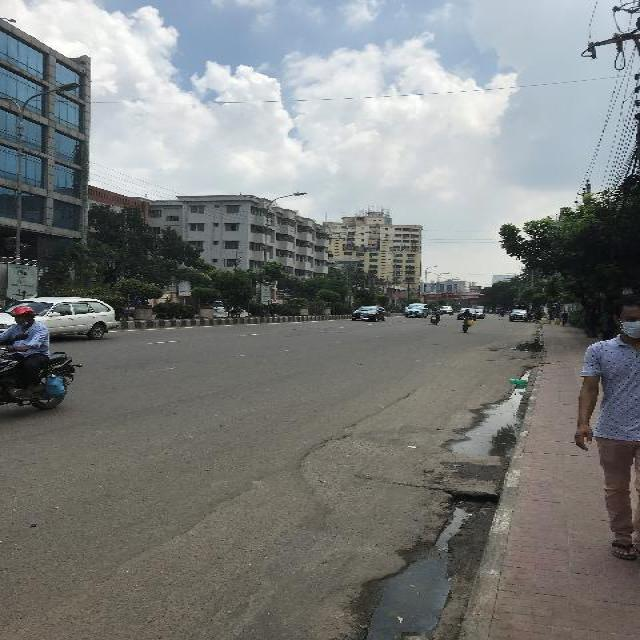bicycle: (459, 309, 474, 333)
car: (1, 294, 119, 340), (351, 305, 385, 321), (475, 308, 485, 318)
minivan: (404, 302, 428, 318), (438, 306, 453, 314)
motorbike: (1, 304, 84, 416), (428, 307, 441, 325)
policecar: (508, 304, 528, 322)
suv: (456, 308, 476, 320)
